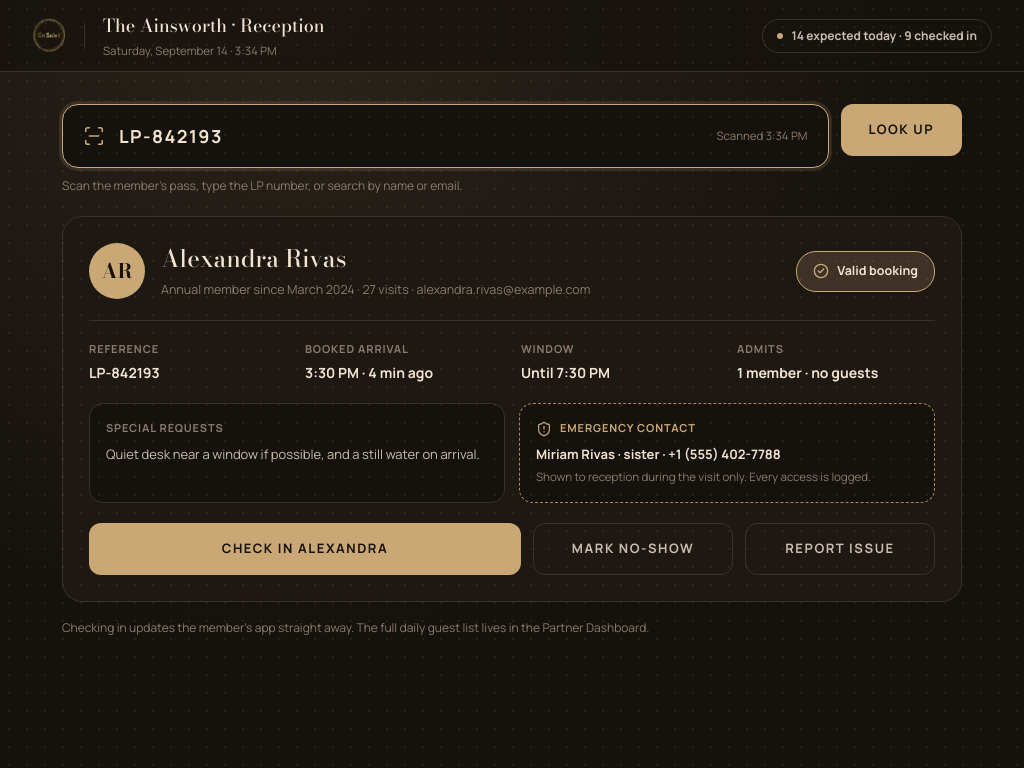
Test: al buscar un número que no existe hoy › bloquea el check-in y ofrece las coincidencias cercanas
Replace the text in the field named "confirmation number" with "LP-000000" at x=411, y=136, box x1=119 y1=122 x2=702 y2=150
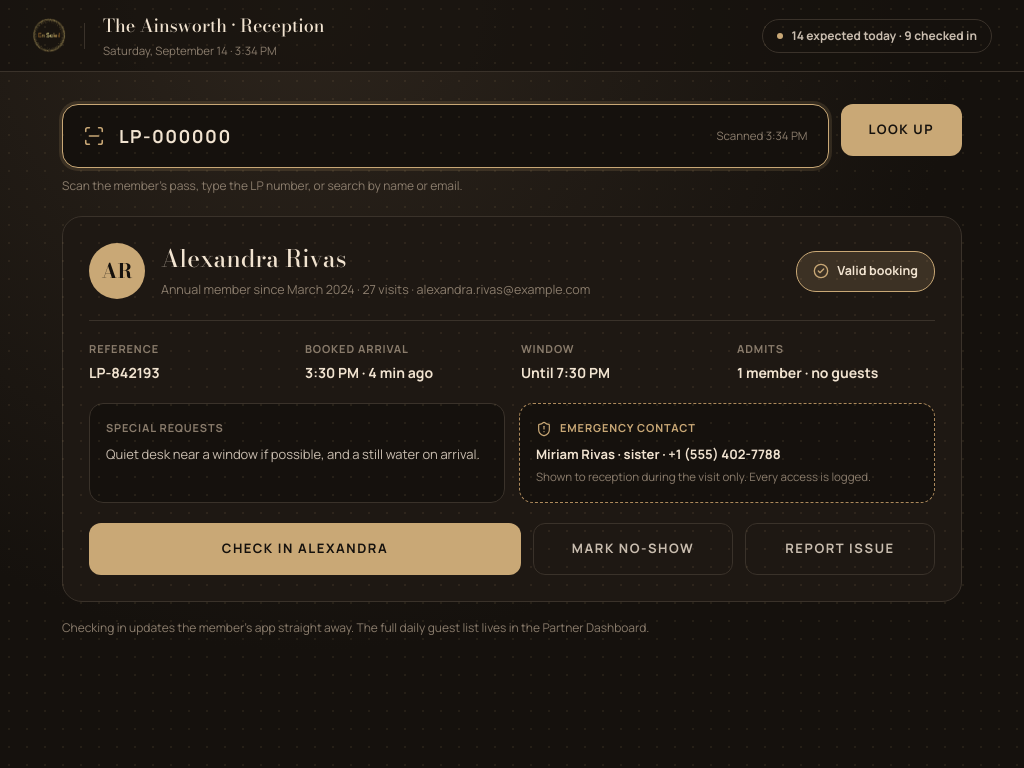
Click the button "Look up" at x=901, y=130, box x1=840 y1=104 x2=962 y2=156
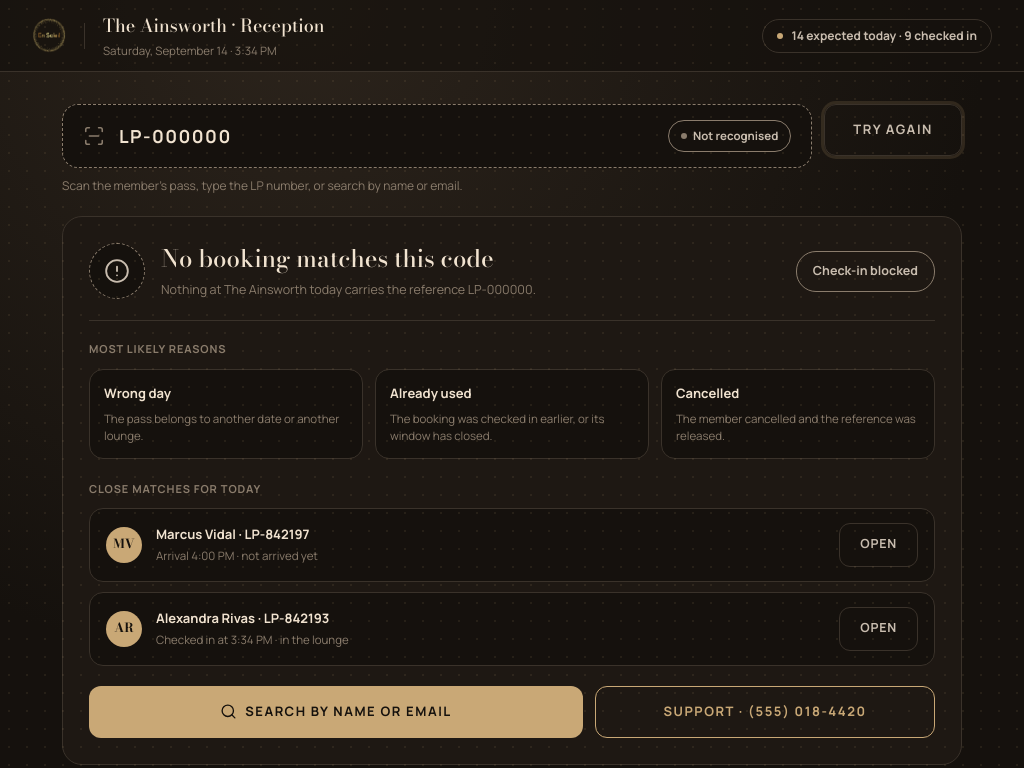
Check: the heading "No booking matches this code" is shown, box x1=161 y1=240 x2=494 y2=277
Check: the text "Check-in blocked" is shown, box x1=813 y1=262 x2=918 y2=281
Check: the text "Marcus Vidal · LP-842197" is shown, box x1=156 y1=525 x2=309 y2=543
